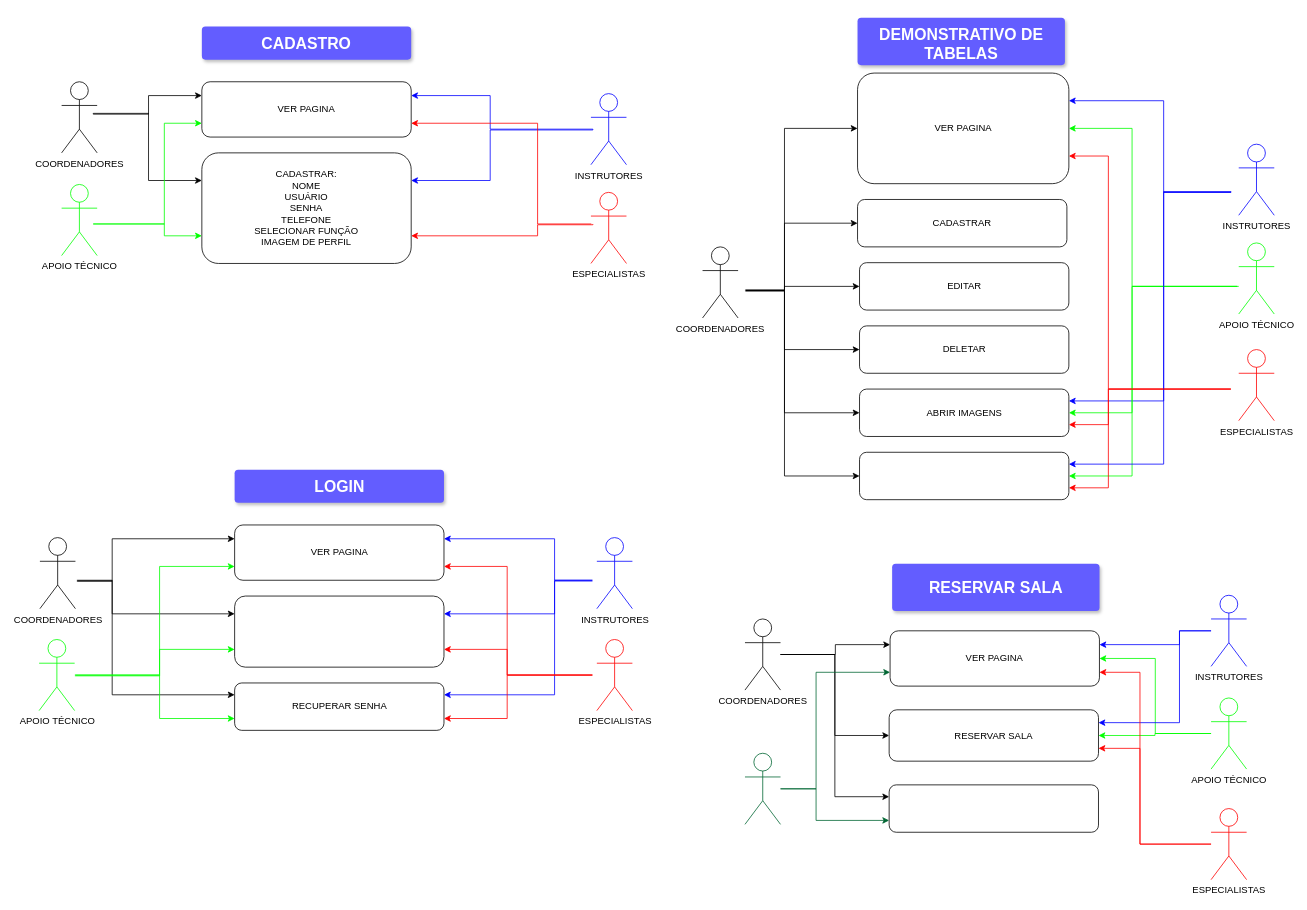
Image size: 1307x910. Some labels were removed from this diagram. The centre of each missing label's shape, as x and y in pixels:
DELETAR RESERVA: pixel 993 808
GERAR PDF: pixel 964 475
LOGAR: USUÁRIO SENHA: pixel 339 631
QUEM RESERVOU A SALA: pixel 762 788
